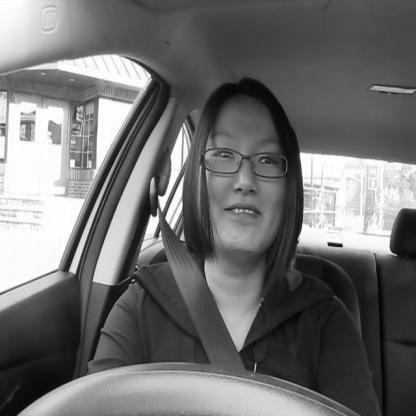seatbelt: (147, 75, 309, 374)
